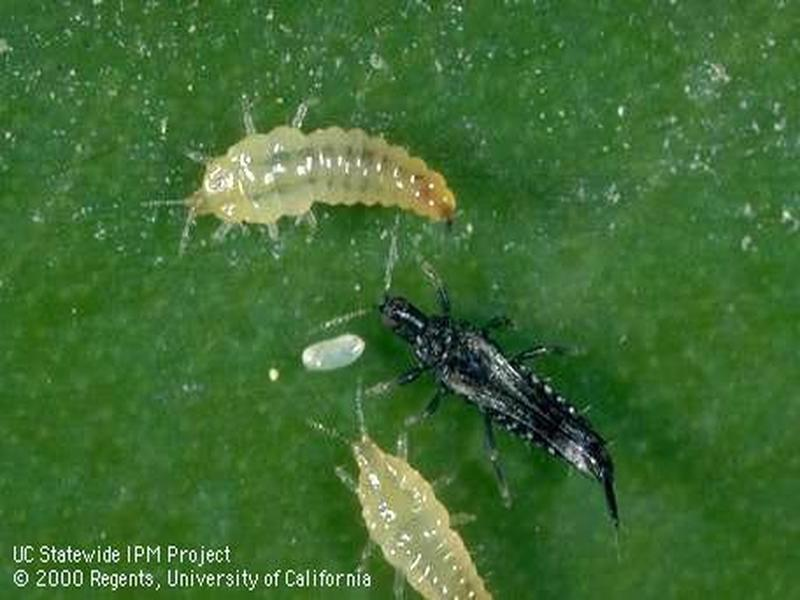Thrips: (370, 268, 627, 494), (166, 112, 495, 255), (319, 413, 499, 597)
